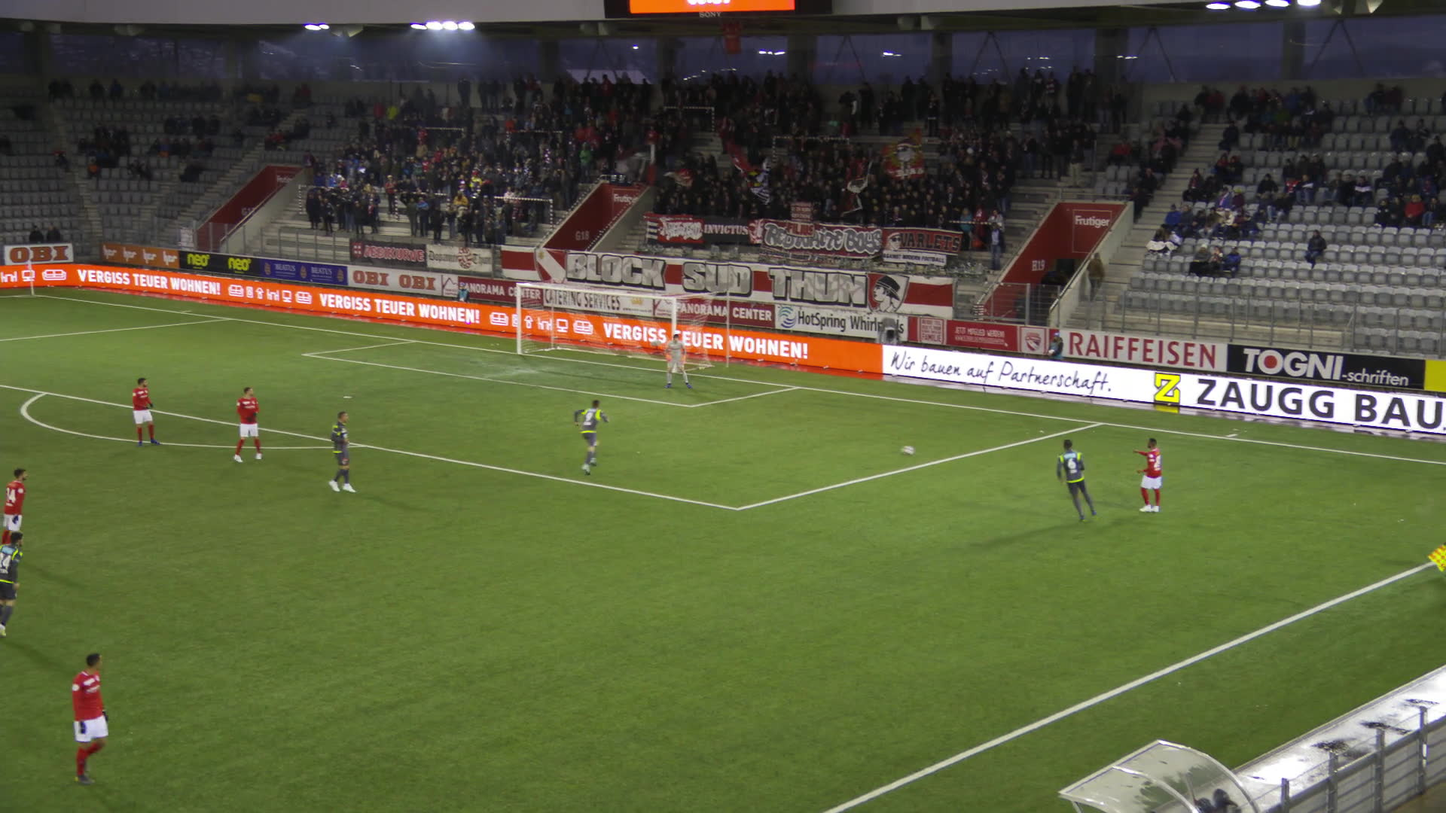ball: (905, 446, 923, 458)
player: (63, 648, 117, 790), (1050, 438, 1096, 525), (0, 532, 29, 638), (572, 397, 611, 474), (1129, 436, 1164, 516), (0, 466, 29, 562), (229, 384, 264, 462), (124, 376, 160, 449), (322, 410, 353, 493), (658, 331, 692, 391)
referee: (1426, 540, 1445, 572)
